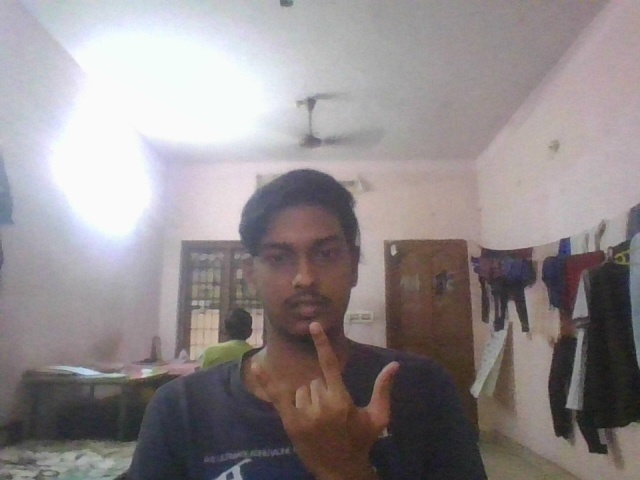iloveyou: (247, 320, 408, 475)
